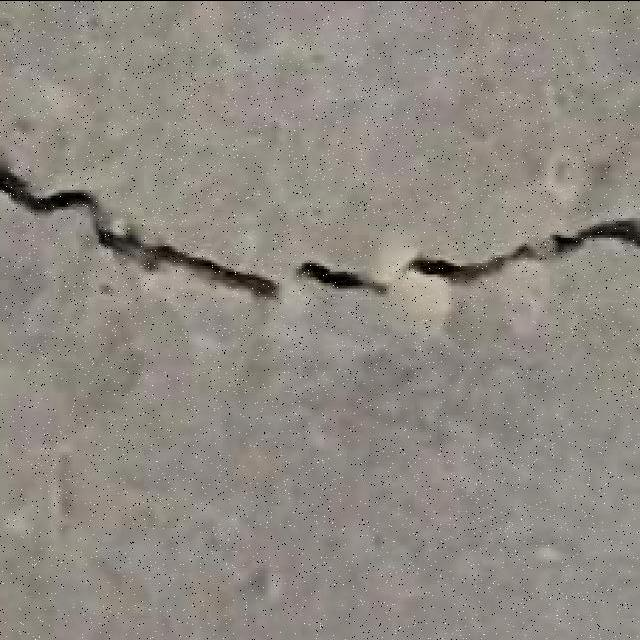crack: (5, 14, 337, 640), (0, 146, 640, 312), (3, 159, 101, 216)
